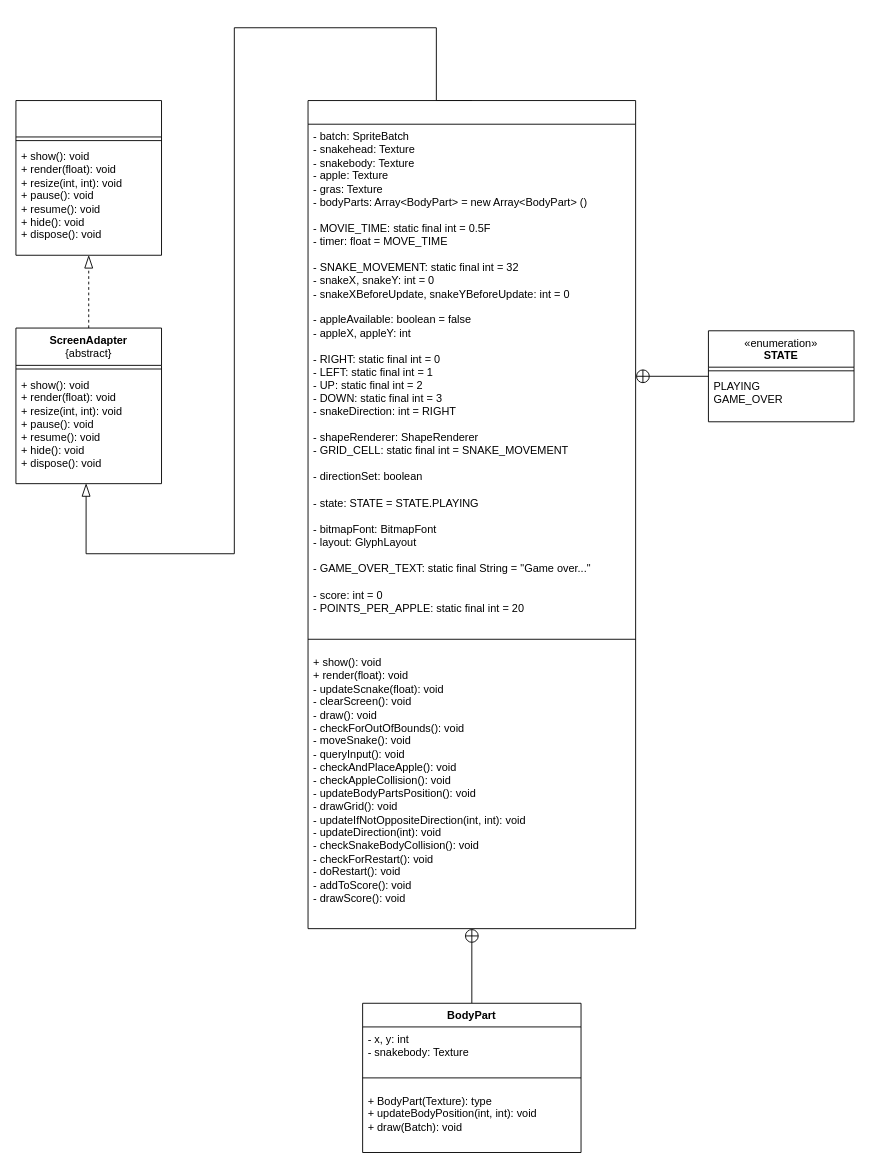
The diagram is 870 pixels wide and 1171 high, and some of its shapes have lost their labels. The box of each missing label's shape, as (x1, y1, x2, y2) in pixels:
GameScreen: (307, 100, 636, 929)
«interface» Screen: (15, 100, 162, 255)
